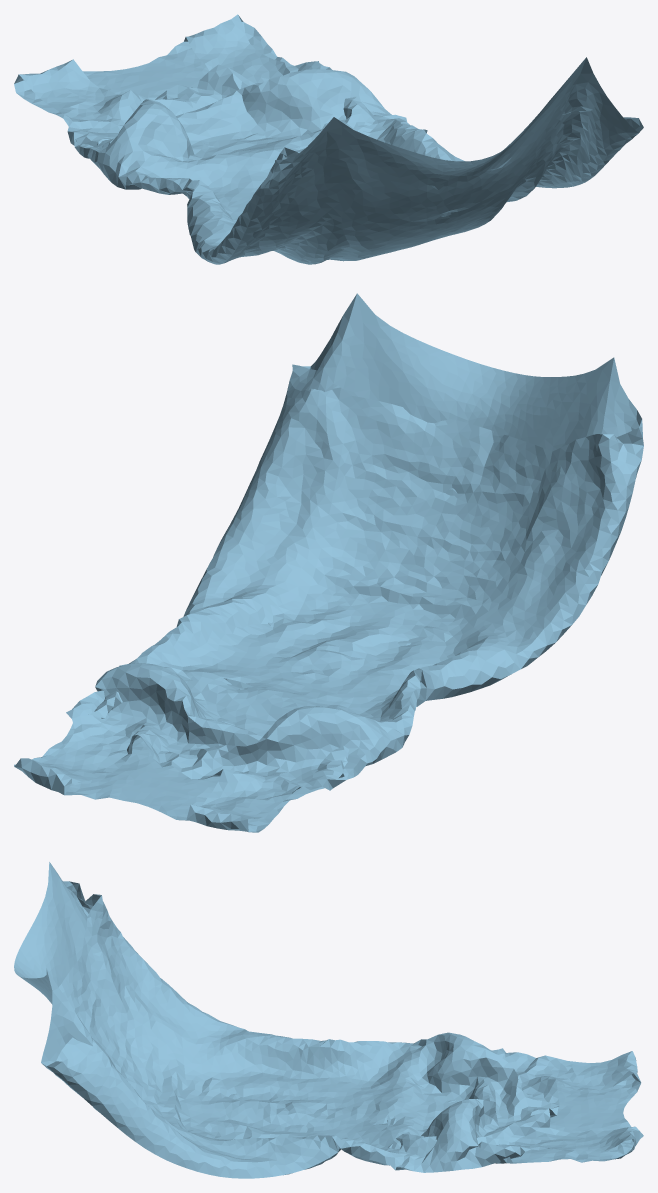
The model's file is frame_04.glb.
3 views of the same model, one above another, from view 1: azimuth 30°, elevation 25°; view 2: azimuth 150°, elevation 25°; view 3: azimuth 270°, elevation 25° (orthographic). The views are drawn at different scales.
Visible parts, largest first — view 1: frame_04.obj; view 2: frame_04.obj; view 3: frame_04.obj.
Part boxes in pixels (left/top/right/bottom): frame_04.obj: left=14, top=14, right=643, bottom=264; frame_04.obj: left=14, top=293, right=643, bottom=832; frame_04.obj: left=14, top=862, right=643, bottom=1178.
Size of the model in its own units: 1 by 0.6134 by 1.76.
